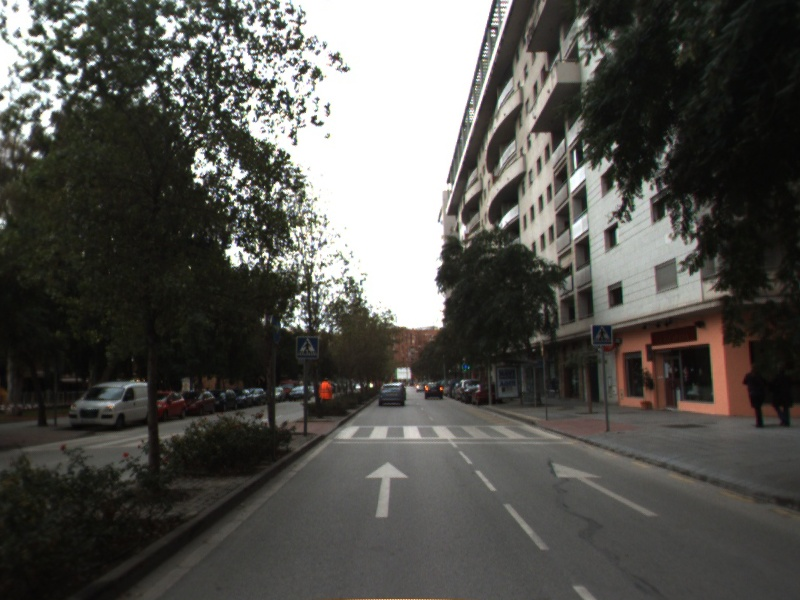STRAIGHT: (548, 459, 662, 519), (363, 459, 412, 520)
